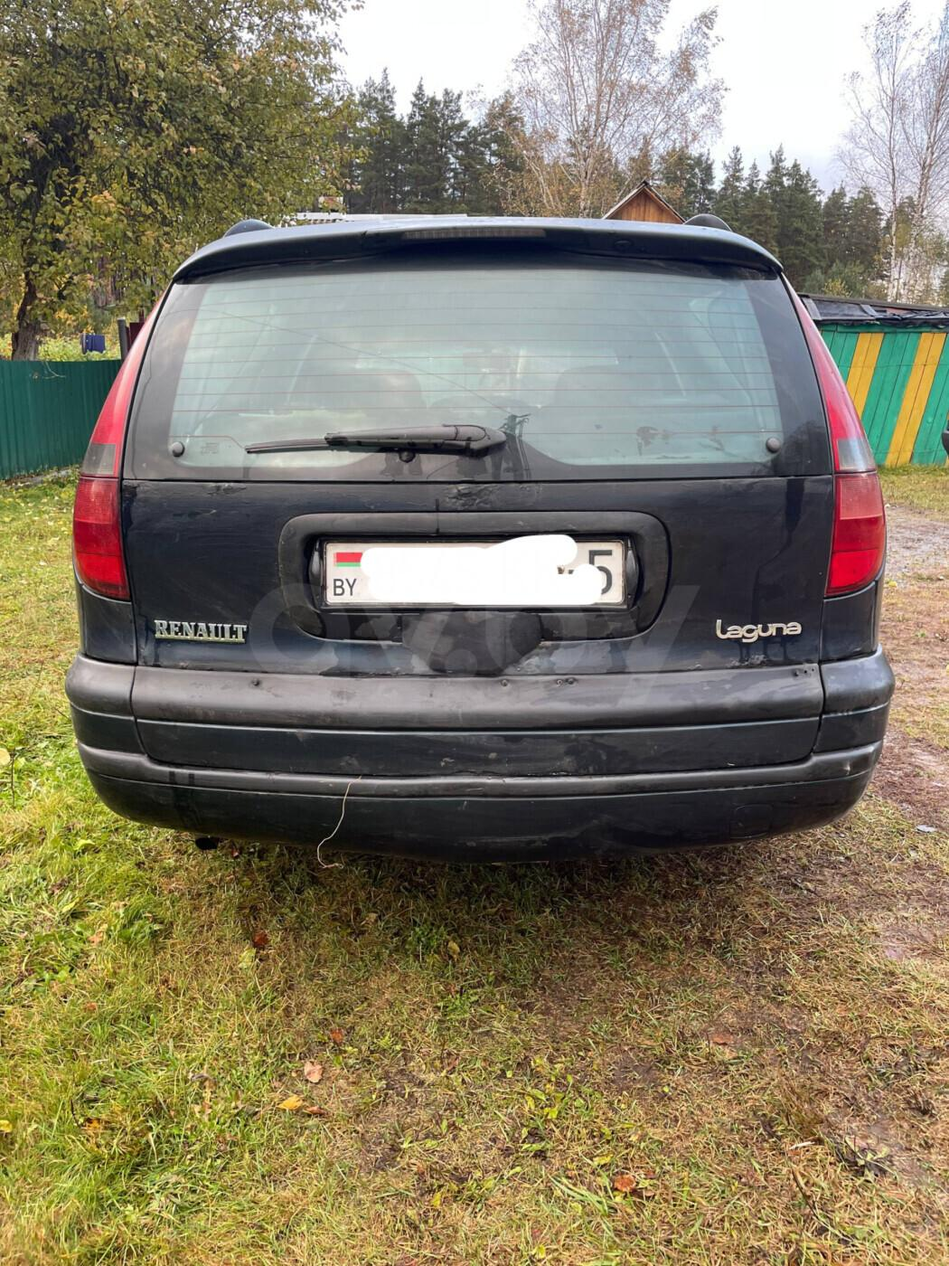Laguna_1998-2001: (60, 210, 904, 861)
